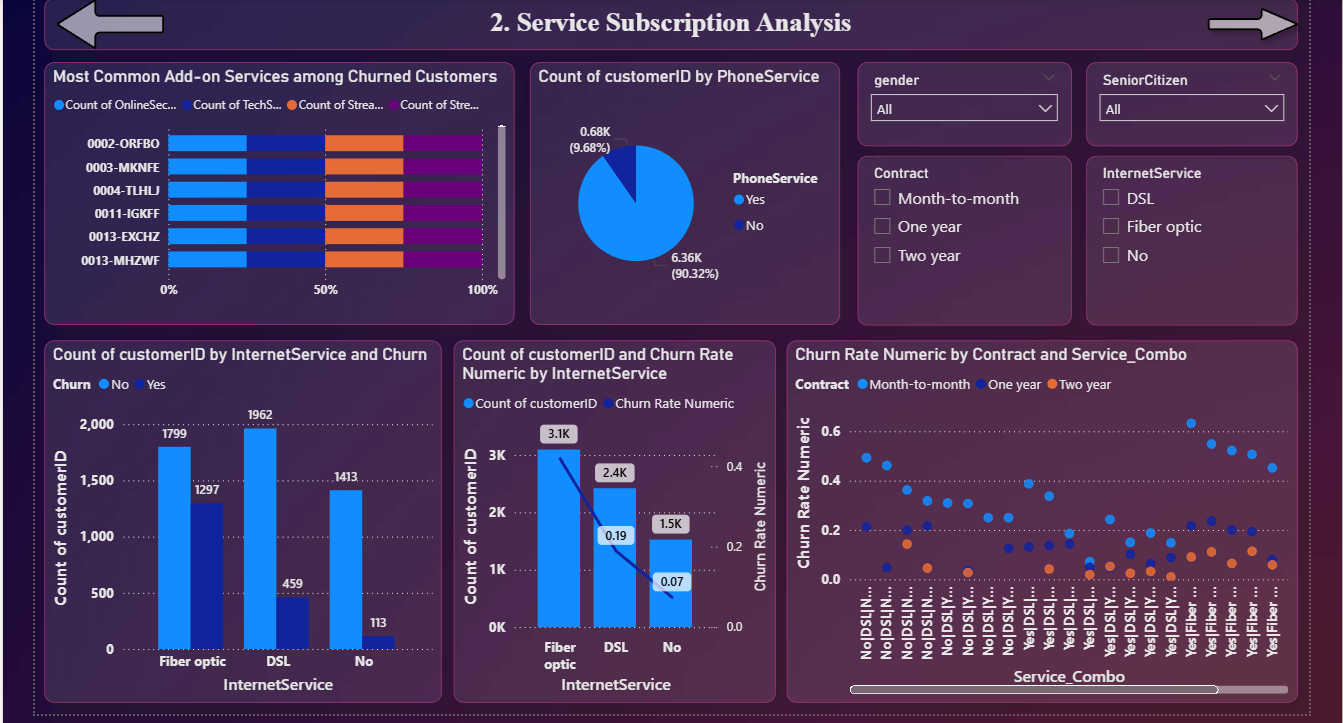

The page's visual inventory and layout, read from the dashboard file:
{"tool":"powerbi","page":{"name":"Page 2","canvas":[1280,720],"ordinal":1},"visuals":[{"type":"textbox","box":[9.4,0,1259.5,52.4],"z":0},{"type":"pieChart","fields":{"Category":["cca data set.PhoneService"],"Y":["CountNonNull(cca data set.customerID)"]},"box":[497.1,64.3,311.4,264.3],"z":1000},{"type":"slicer","fields":{"Values":["cca data set.InternetService"]},"box":[1056.5,158.6,212.4,170.7],"z":2000},{"type":"slicer","fields":{"Values":["cca data set.Contract"]},"box":[826.7,158.6,215.1,170.7],"z":3000},{"type":"slicer","fields":{"Values":["cca data set.SeniorCitizen"]},"box":[1056.5,64.5,212.4,84.7],"z":4000},{"type":"slicer","fields":{"Values":["cca data set.gender"]},"box":[826.7,64.5,215.1,84.7],"z":5000},{"type":"lineStackedColumnComboChart","fields":{"Category":["cca data set.InternetService"],"Y":["CountNonNull(cca data set.customerID)"],"Y2":["cca data set.Churn Rate Numeric"]},"box":[420.7,344.1,323.9,364.3],"z":6000},{"type":"hundredPercentStackedBarChart","title":"Most Common Add-on Services among Churned Customers","fields":{"Category":["cca data set.customerID"],"Y":["CountNonNull(cca data set.OnlineSecurity)","CountNonNull(cca data set.TechSupport)","CountNonNull(cca data set.StreamingTV)","CountNonNull(cca data set.StreamingMovies)"]},"box":[10,64.3,472.9,264.3],"z":7000},{"type":"scatterChart","fields":{"X":["cca data set.Service_Combo"],"Y":["cca data set.Churn Rate Numeric"],"Series":["cca data set.Contract"]},"box":[755.4,344.1,513.5,364.3],"z":8000},{"type":"clusteredColumnChart","fields":{"Category":["cca data set.InternetService"],"Y":["CountNonNull(cca data set.customerID)"],"Series":["cca data set.Churn"]},"box":[9.4,344.1,399.2,364.3],"z":9000},{"type":"shape","box":[1169.3,0,111.2,52.7],"z":10000},{"type":"shape","box":[20.5,0,109.8,52.7],"z":11000}]}

Visuals, with their boxes on the page's 1280x720 design canvas (x1, y1, x2, y2). These are canvas units, not pixel positions in the 1343x723 screenshot, which may show the page scaled, cropped or inside an application window:
textbox: detection(9, 0, 1269, 52)
pieChart - cca data set.PhoneService x CountNonNull(cca data set.customerID): detection(497, 64, 808, 329)
slicer - cca data set.InternetService: detection(1056, 159, 1269, 329)
slicer - cca data set.Contract: detection(827, 159, 1042, 329)
slicer - cca data set.SeniorCitizen: detection(1056, 64, 1269, 149)
slicer - cca data set.gender: detection(827, 64, 1042, 149)
lineStackedColumnComboChart - cca data set.InternetService x CountNonNull(cca data set.customerID): detection(421, 344, 745, 708)
"Most Common Add-on Services among Churned Customers" hundredPercentStackedBarChart: detection(10, 64, 483, 329)
scatterChart - cca data set.Service_Combo x cca data set.Churn Rate Numeric: detection(755, 344, 1269, 708)
clusteredColumnChart - cca data set.InternetService x CountNonNull(cca data set.customerID): detection(9, 344, 409, 708)
shape: detection(1169, 0, 1280, 53)
shape: detection(20, 0, 130, 53)
